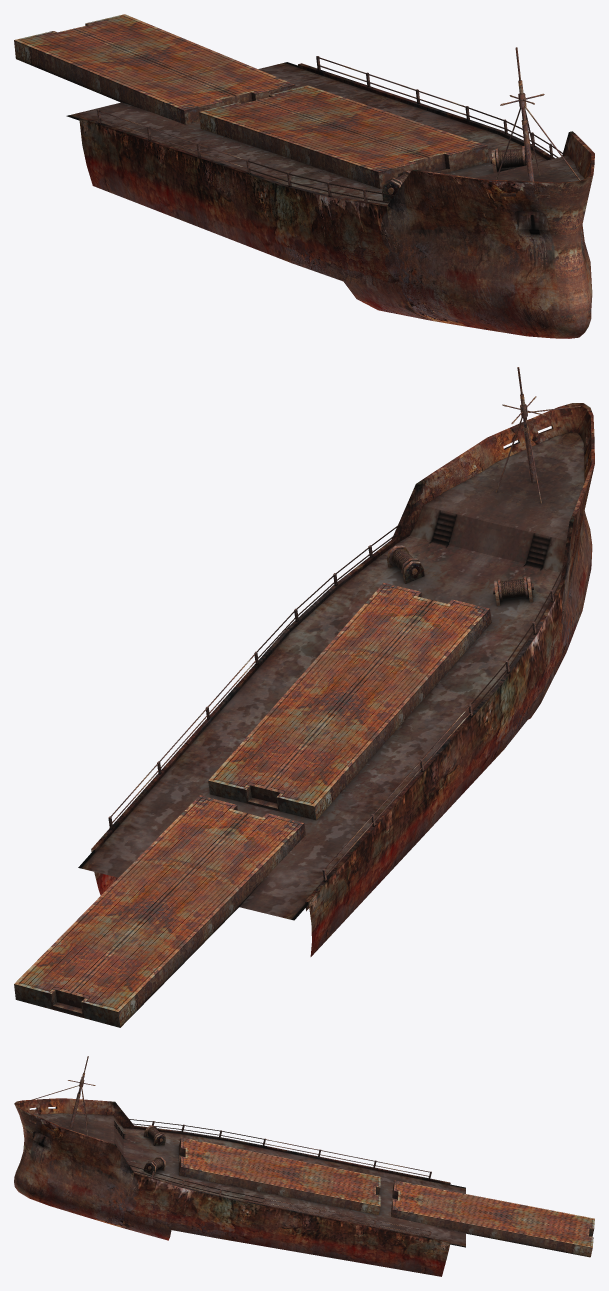
The model's file is pjswreck.fbx.
The picture shows the model from 3 angles, top to bottom: view 1: azimuth 30°, elevation 25°; view 2: azimuth 150°, elevation 25°; view 3: azimuth 270°, elevation 25°; orthographic projection. The views are drawn at different scales.
Parts seen in each view (by area): view 1: wreck; view 2: wreck; view 3: wreck.
Part boxes in pixels (x1,y1,x2,y2): wreck: (14,14,594,338); wreck: (14,367,594,1027); wreck: (14,1056,594,1276).
Bounding box in the file's own units: 37.6 × 55.8 × 153.
